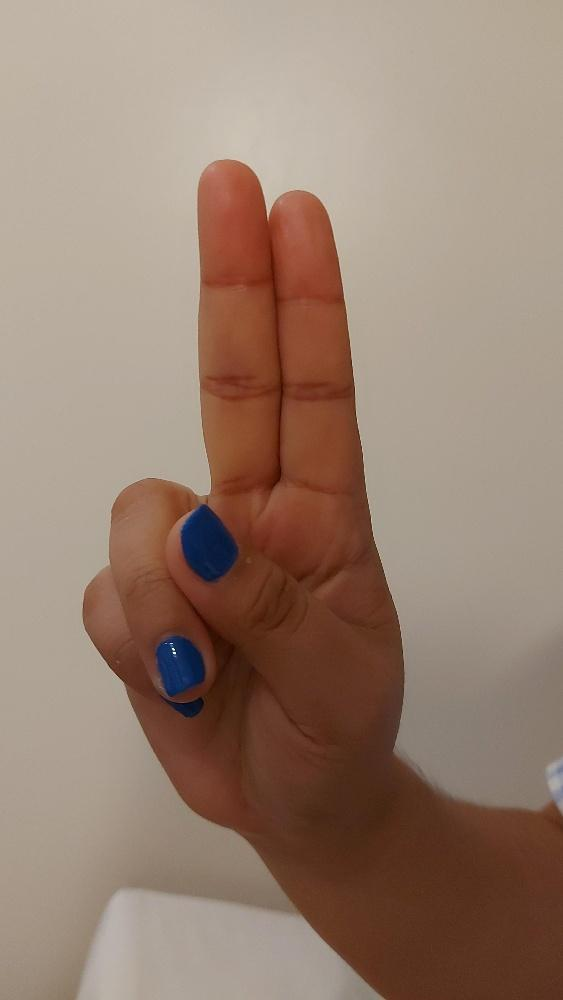u: (79, 155, 407, 833)
